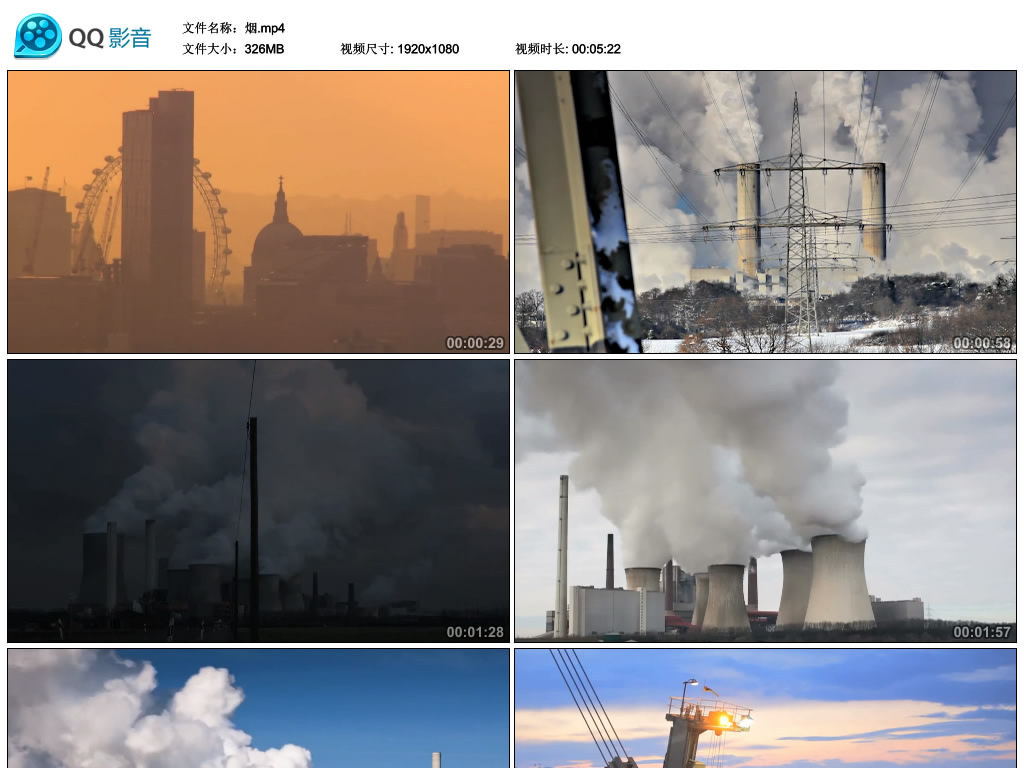dust: (551, 382, 929, 568), (684, 76, 974, 174)
